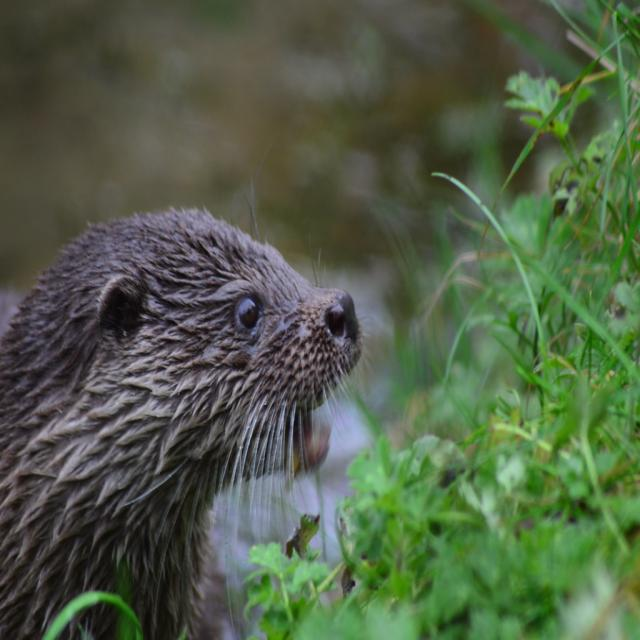otter: (1, 211, 356, 629)
